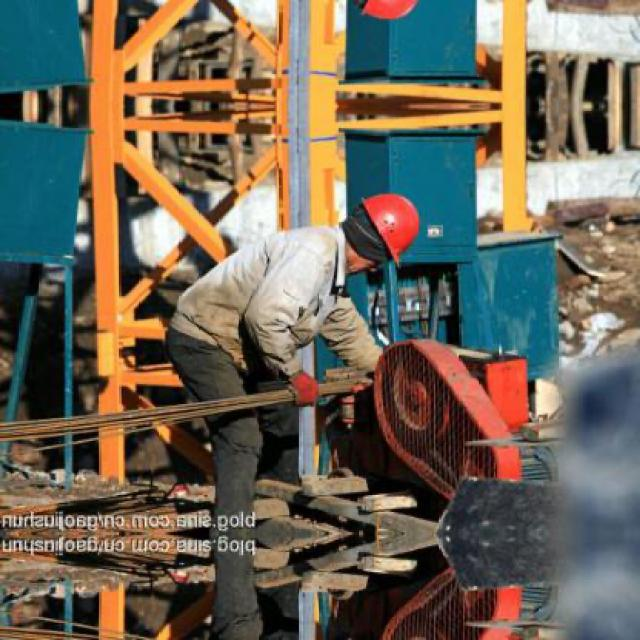helmet: (349, 188, 428, 276), (349, 0, 429, 26)
